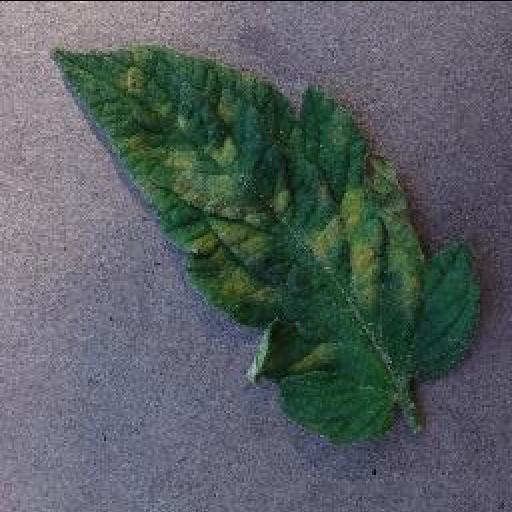disease_tomato: (52, 46, 474, 442)
